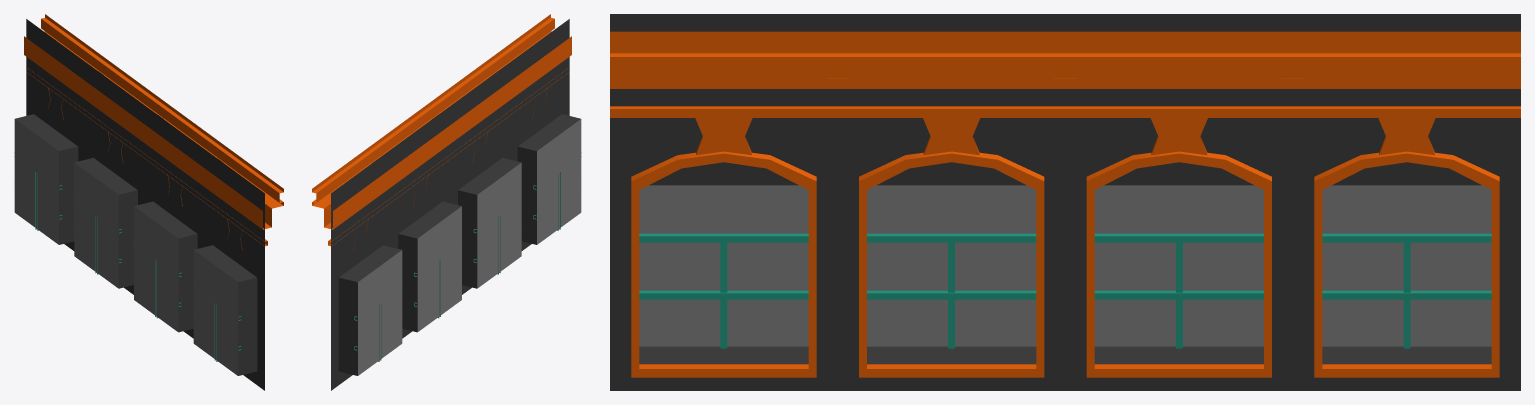
The model's file is SM_T_Build_01.fbx.
The picture shows the model from 3 angles, left to right: view 1: azimuth 30°, elevation 25°; view 2: azimuth 150°, elevation 25°; view 3: azimuth 270°, elevation 25°; orthographic projection. The views are drawn at different scales.
Visible parts, largest first — view 1: Box013, SM_T_Build_01, Box058; view 2: Box013, SM_T_Build_01, Box058; view 3: Box013, SM_T_Build_01, Box058, Box045, Box040, Box043, Box041, Box042, Box027, Box028, Box026, Box029.
Boxes of the visible parts, x1,y1,x2,y2 form: Box013: [15, 19, 264, 390]; SM_T_Build_01: [14, 119, 237, 375]; Box058: [24, 14, 283, 229]; Box013: [331, 19, 580, 390]; SM_T_Build_01: [358, 119, 581, 375]; Box058: [312, 14, 571, 229]; Box013: [610, 14, 1520, 390]; SM_T_Build_01: [631, 151, 1499, 377]; Box058: [610, 31, 1520, 88]; Box045: [610, 106, 1520, 117]; Box040: [639, 233, 808, 348]; Box043: [1322, 233, 1491, 348]; Box041: [867, 233, 1036, 348]; Box042: [1094, 233, 1263, 348]; Box027: [923, 118, 980, 155]; Box028: [1150, 118, 1207, 155]; Box026: [695, 118, 752, 155]; Box029: [1378, 118, 1435, 155].
Size of the model in its own units: 106 by 521 by 1140.
